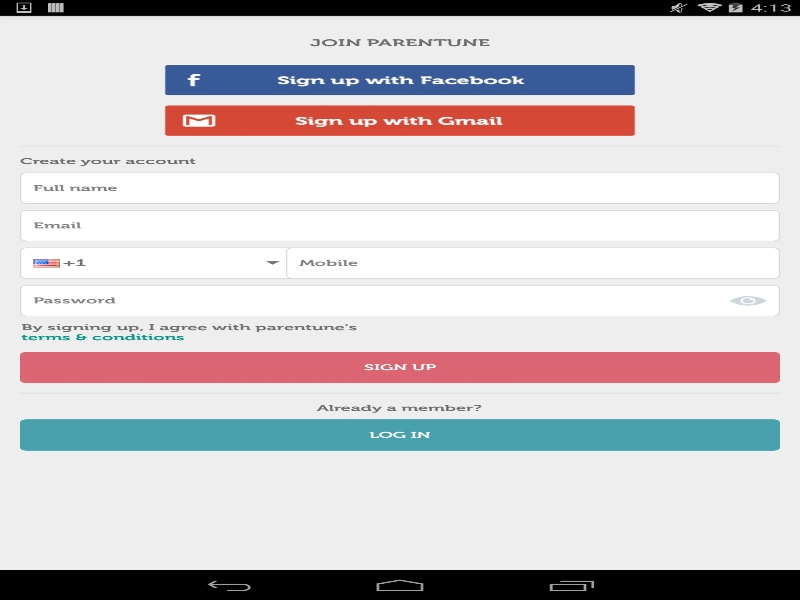Button: (20, 351, 780, 383)
Input: (20, 172, 780, 203), (20, 210, 780, 241), (20, 285, 716, 316), (286, 247, 780, 278)
